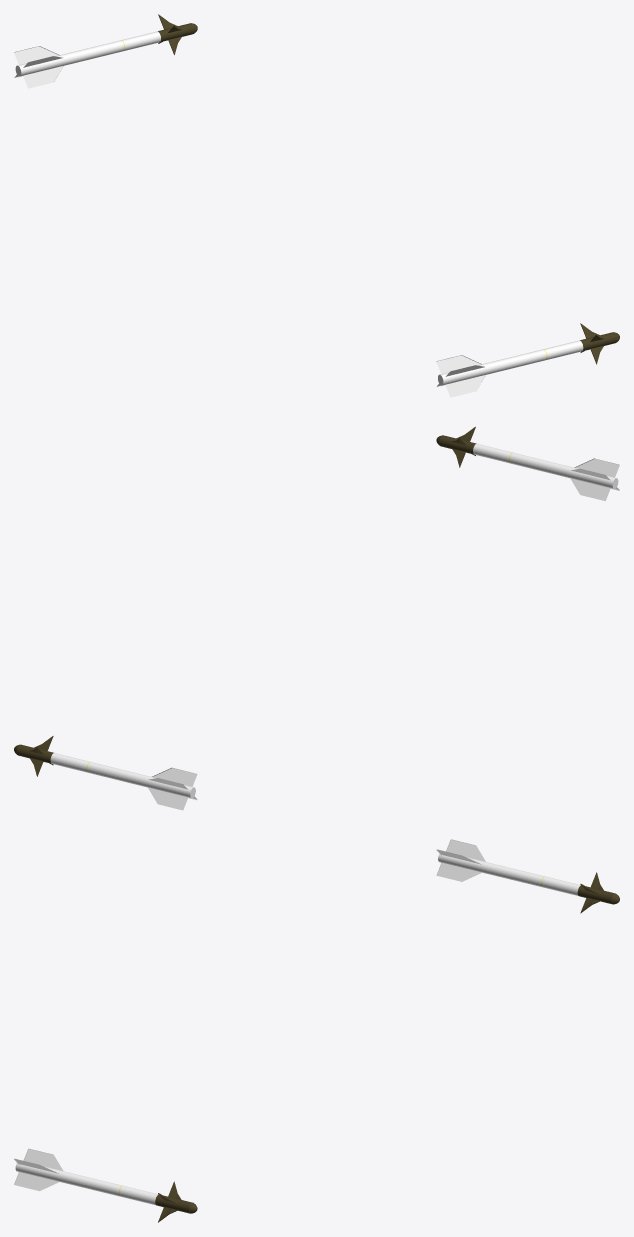
The model's file is aim9fa18e110.glb.
3 views of the same model, one above another, from view 1: azimuth 30°, elevation 25°; view 2: azimuth 150°, elevation 25°; view 3: azimuth 330°, elevation 25° (orthographic).
Parts seen in each view (by area): view 1: 円柱.005, 円柱.001; view 2: 円柱.005, 円柱.001; view 3: 円柱.001, 円柱.005.
Boxes of the visible parts, x1,y1,x2,y2 form: 円柱.005: (436,323,619,397); 円柱.001: (14,14,197,88); 円柱.005: (436,426,619,501); 円柱.001: (14,736,197,810); 円柱.001: (436,839,619,913); 円柱.005: (14,1148,197,1222).
Bounding box in the file's own units: 3.38 × 0.543 × 14.39.
2 materials, 2 textured.
